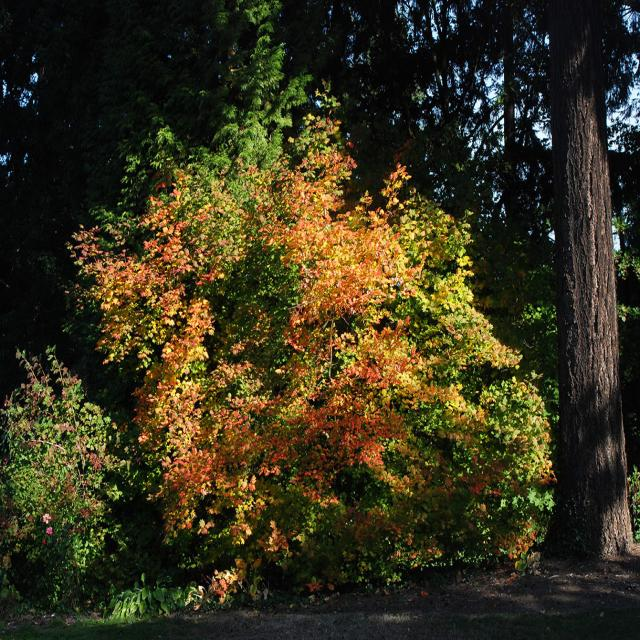Acer circinatum: (82, 58, 557, 606)
